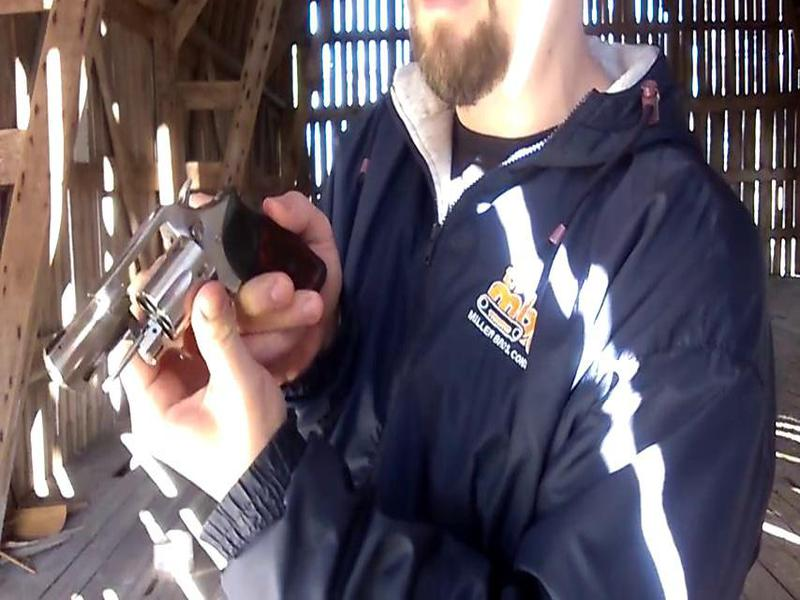Revolver: (39, 177, 322, 401)
